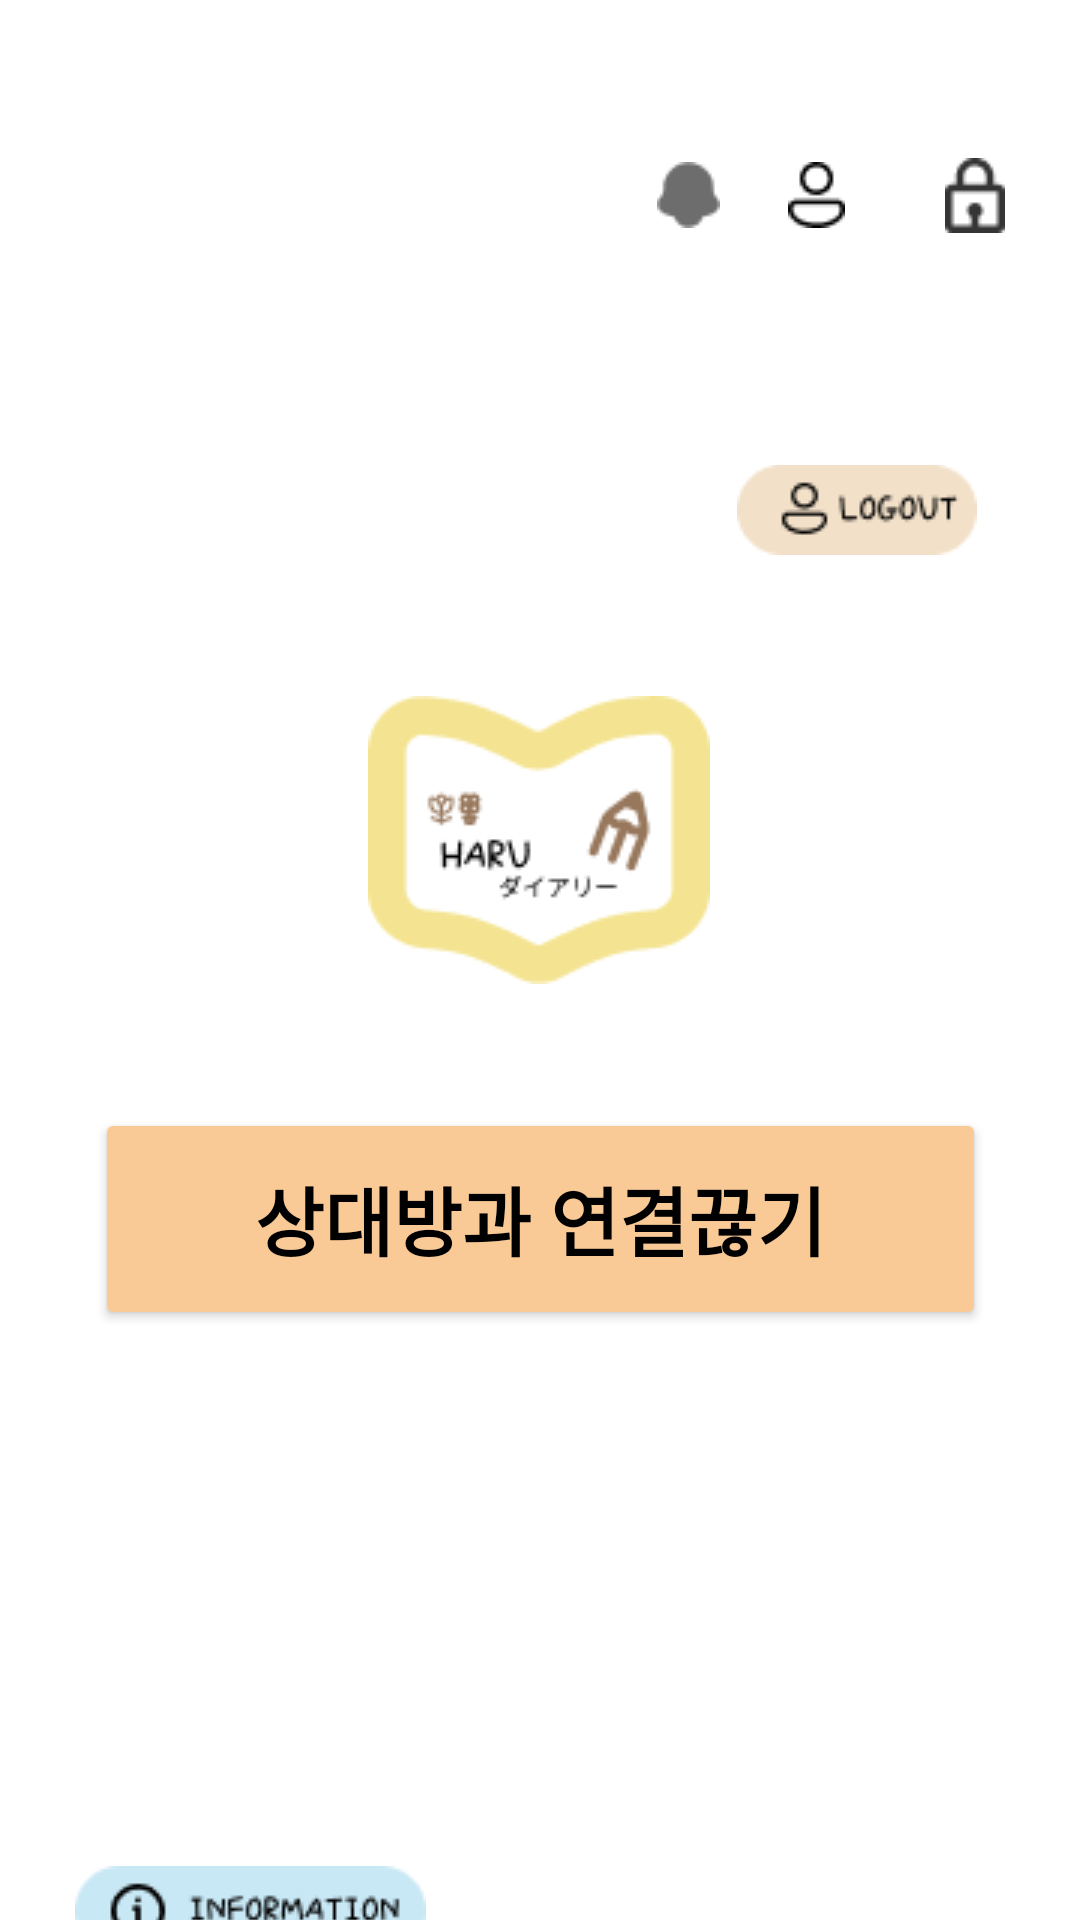

Screen size 1080 × 1920. Icon name, then its box in pixels as (x1, y1, x2, y2):
bell: (657, 162, 720, 228)
lock: (945, 158, 1005, 233)
person: (788, 162, 845, 228)
